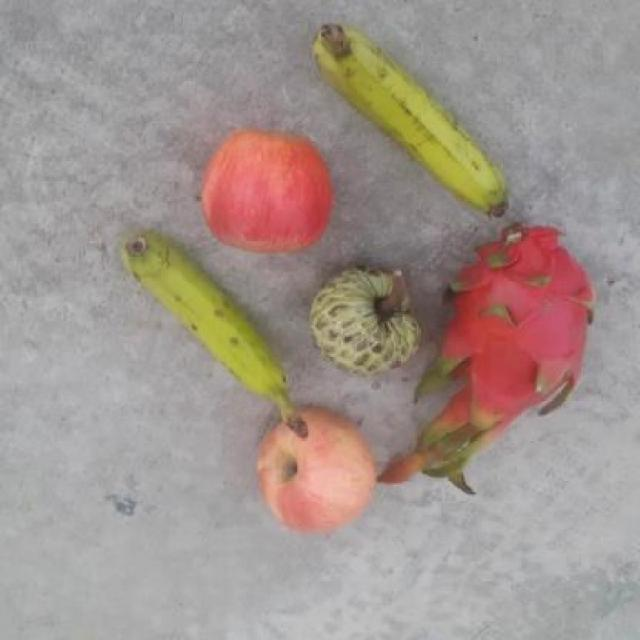apple: (196, 126, 332, 257), (256, 405, 375, 537)
banana: (309, 18, 514, 220), (118, 234, 310, 438)
dragon fruit: (430, 220, 602, 432)
sugar apple: (306, 261, 422, 377)
